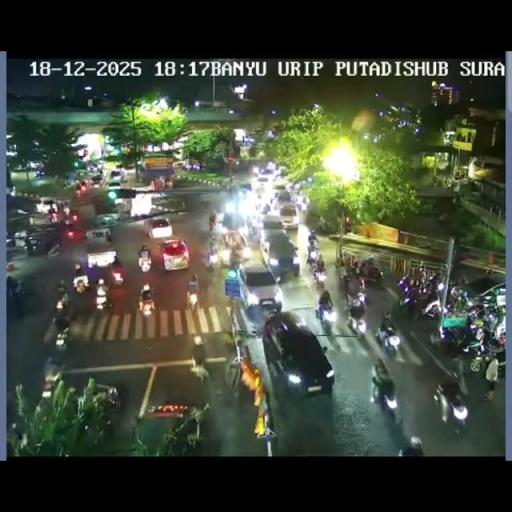Car: (262, 311, 334, 396), (238, 261, 282, 313), (86, 231, 116, 267), (160, 239, 190, 271), (150, 195, 186, 216), (221, 207, 249, 234), (260, 216, 286, 242), (278, 203, 300, 228), (146, 218, 172, 239), (34, 197, 64, 214), (66, 221, 84, 240), (255, 172, 275, 189), (108, 172, 123, 187), (90, 172, 104, 186), (171, 160, 188, 169), (273, 183, 287, 193)
Motorcycle: (434, 377, 468, 429), (465, 327, 504, 371), (432, 321, 473, 360), (372, 375, 400, 421), (346, 296, 368, 334), (196, 261, 218, 298), (190, 338, 208, 382), (400, 290, 425, 319), (375, 326, 399, 356), (226, 354, 244, 394), (314, 299, 334, 331), (6, 422, 26, 454), (486, 306, 505, 336), (398, 435, 424, 456), (53, 317, 70, 347), (138, 290, 156, 317), (448, 284, 470, 306), (422, 298, 442, 320), (464, 302, 486, 322), (24, 235, 45, 255), (41, 372, 57, 398), (6, 276, 24, 298), (72, 273, 90, 294), (366, 265, 384, 285), (186, 284, 199, 311), (206, 241, 219, 268), (312, 261, 327, 284), (94, 288, 109, 311), (110, 263, 125, 286), (222, 327, 235, 352), (54, 290, 68, 313), (424, 272, 438, 295), (246, 218, 262, 238), (105, 385, 119, 407), (317, 216, 334, 234), (346, 258, 361, 277), (306, 244, 320, 264), (138, 253, 152, 272), (294, 192, 308, 211), (114, 199, 130, 215), (341, 270, 353, 291), (354, 275, 366, 294), (398, 274, 410, 292), (75, 181, 88, 196), (288, 181, 302, 194), (358, 261, 369, 277), (308, 232, 319, 246), (221, 178, 232, 192), (48, 209, 58, 222), (459, 272, 468, 286), (74, 262, 82, 276), (62, 204, 70, 218), (261, 203, 270, 215), (208, 218, 216, 230), (437, 281, 445, 291), (106, 230, 112, 242)
